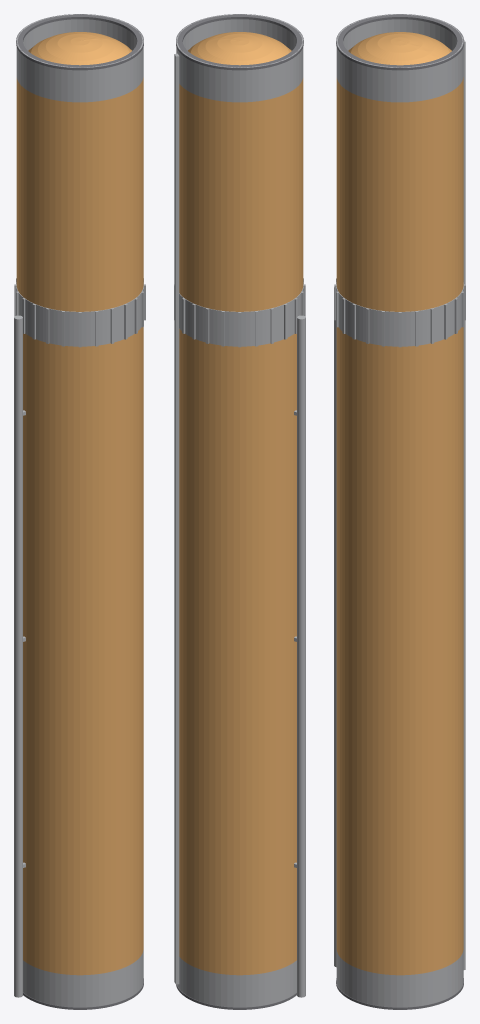
File: tank02_hydrolox_xl.glb
The picture shows the model from 3 angles, left to right: view 1: azimuth 30°, elevation 25°; view 2: azimuth 150°, elevation 25°; view 3: azimuth 330°, elevation 25°; orthographic projection.
Visible parts, largest first — view 1: tank, skirts, lox_feedline, intertank, stack_flanges; view 2: tank, skirts, lox_feedline, raceway, intertank, stack_flanges; view 3: tank, skirts, intertank, raceway, stack_flanges, lox_feedline.
Part boxes in pixels (bbox=[...]): tank: bbox=[16, 32, 143, 975]; skirts: bbox=[16, 14, 143, 1007]; lox_feedline: bbox=[14, 315, 25, 997]; intertank: bbox=[14, 278, 145, 347]; stack_flanges: bbox=[16, 14, 143, 1009]; tank: bbox=[179, 32, 303, 975]; skirts: bbox=[176, 14, 303, 1007]; lox_feedline: bbox=[294, 315, 305, 997]; raceway: bbox=[174, 53, 179, 984]; intertank: bbox=[174, 278, 305, 347]; stack_flanges: bbox=[176, 14, 303, 1009]; tank: bbox=[336, 32, 463, 975]; skirts: bbox=[336, 14, 463, 1007]; intertank: bbox=[334, 278, 465, 347]; raceway: bbox=[463, 40, 465, 969]; stack_flanges: bbox=[336, 14, 463, 1009]; lox_feedline: bbox=[334, 287, 336, 967].
Size of the model in its own units: 5.56 by 40.9 by 5.18.
